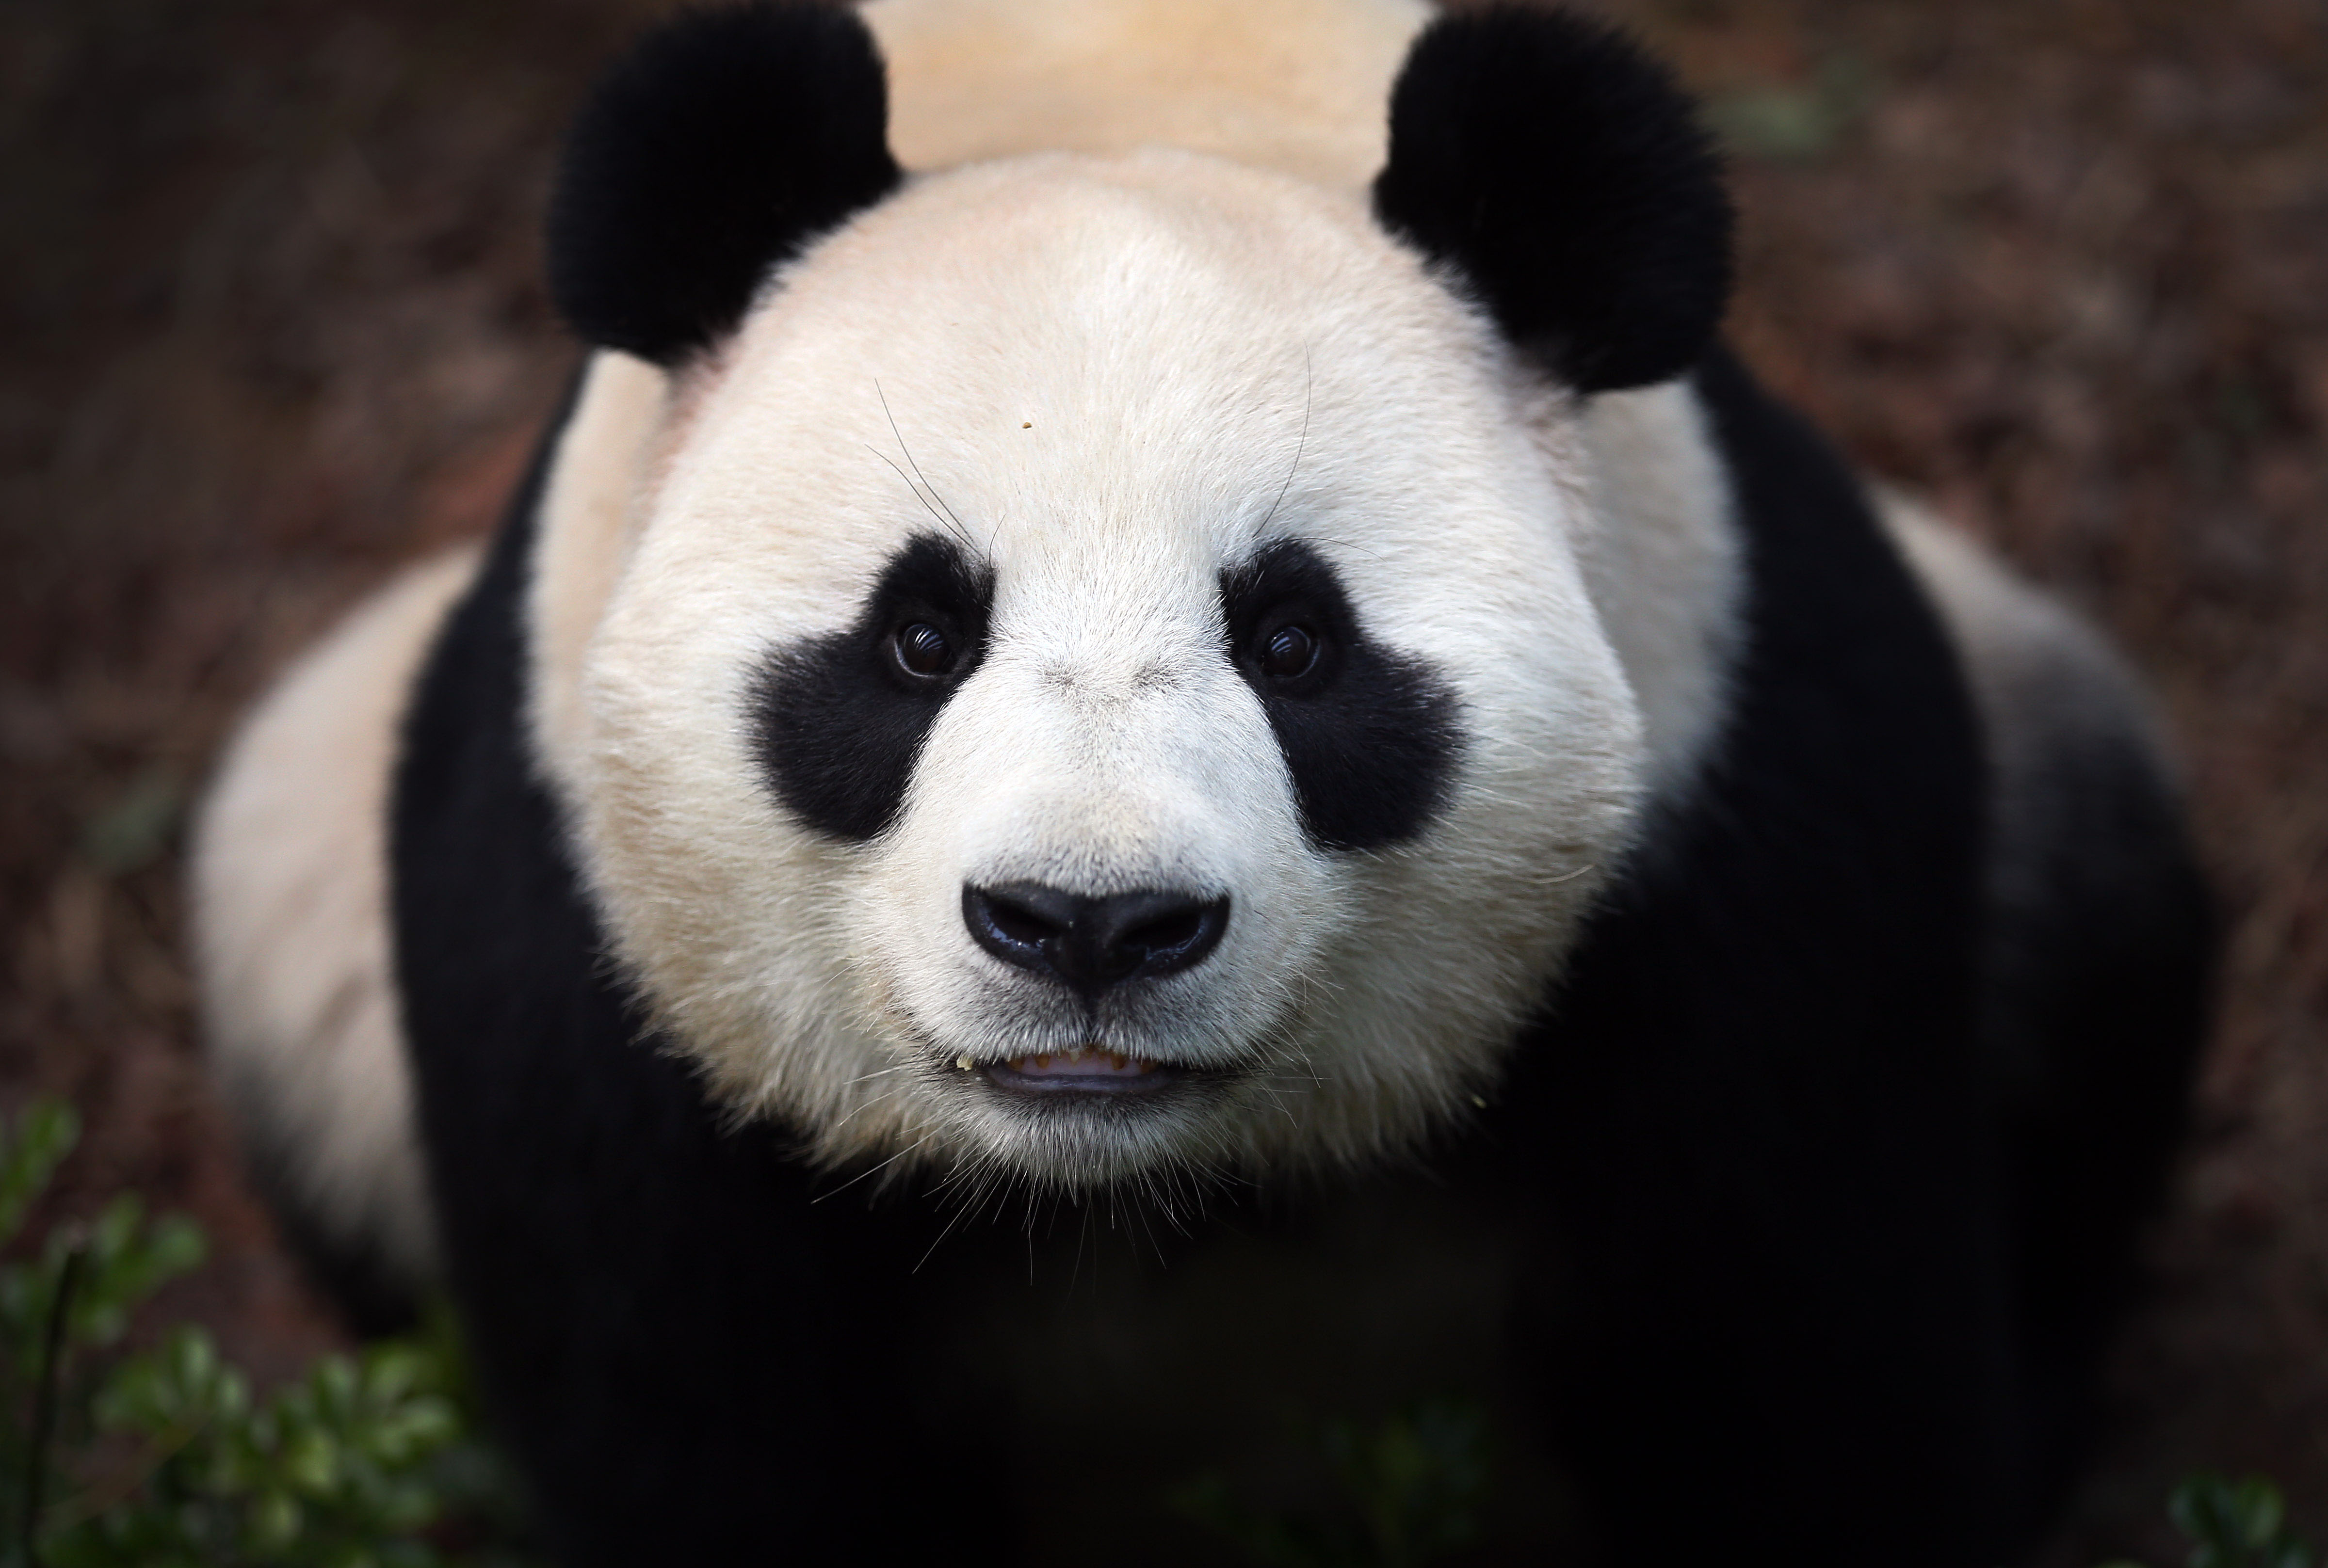panda: (121, 35, 2240, 1524)
